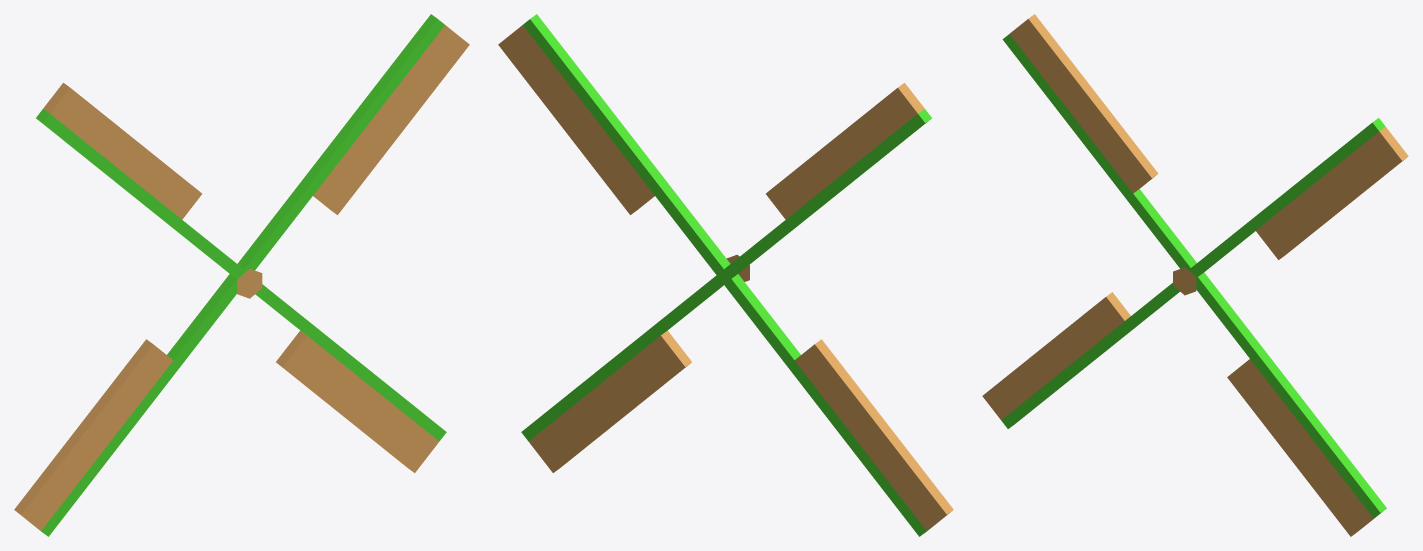
Rendered from blades.fbx.
The picture shows the model from 3 angles, left to right: view 1: azimuth 30°, elevation 25°; view 2: azimuth 150°, elevation 25°; view 3: azimuth 330°, elevation 25°; orthographic projection. The views are drawn at different scales.
Parts seen in each view (by area): view 1: blades; view 2: blades; view 3: blades.
Part boxes in pixels (x1,y1,x2,y2): blades: (14,14,469,536); blades: (498,14,953,536); blades: (982,14,1408,536).
Size of the model in its own units: 589 by 589 by 29.68.
